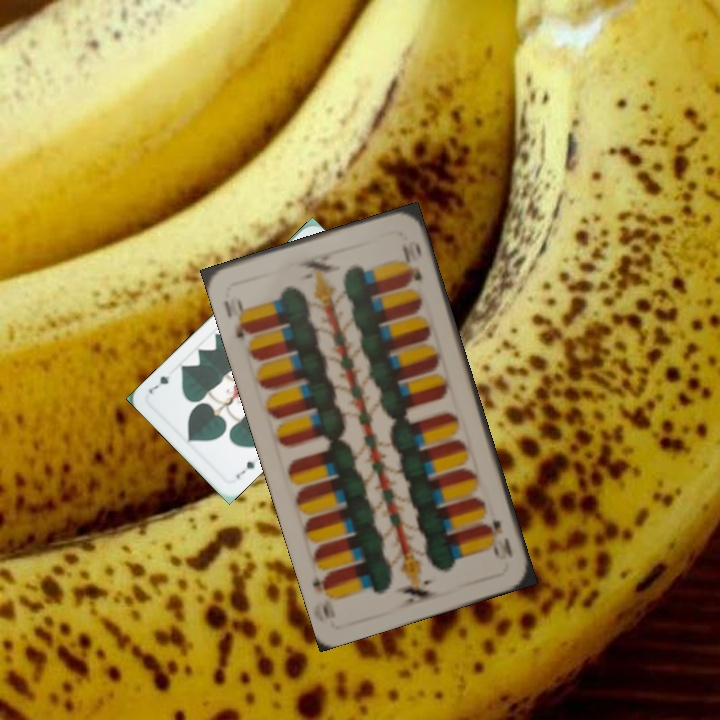E10: (482, 513, 515, 563), (230, 294, 255, 341)
G7: (232, 457, 258, 481)
